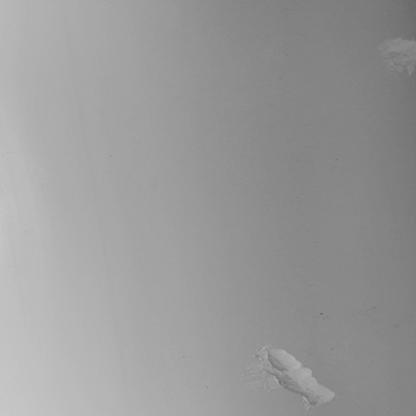sunshang: (253, 339, 343, 411), (375, 32, 416, 85)
